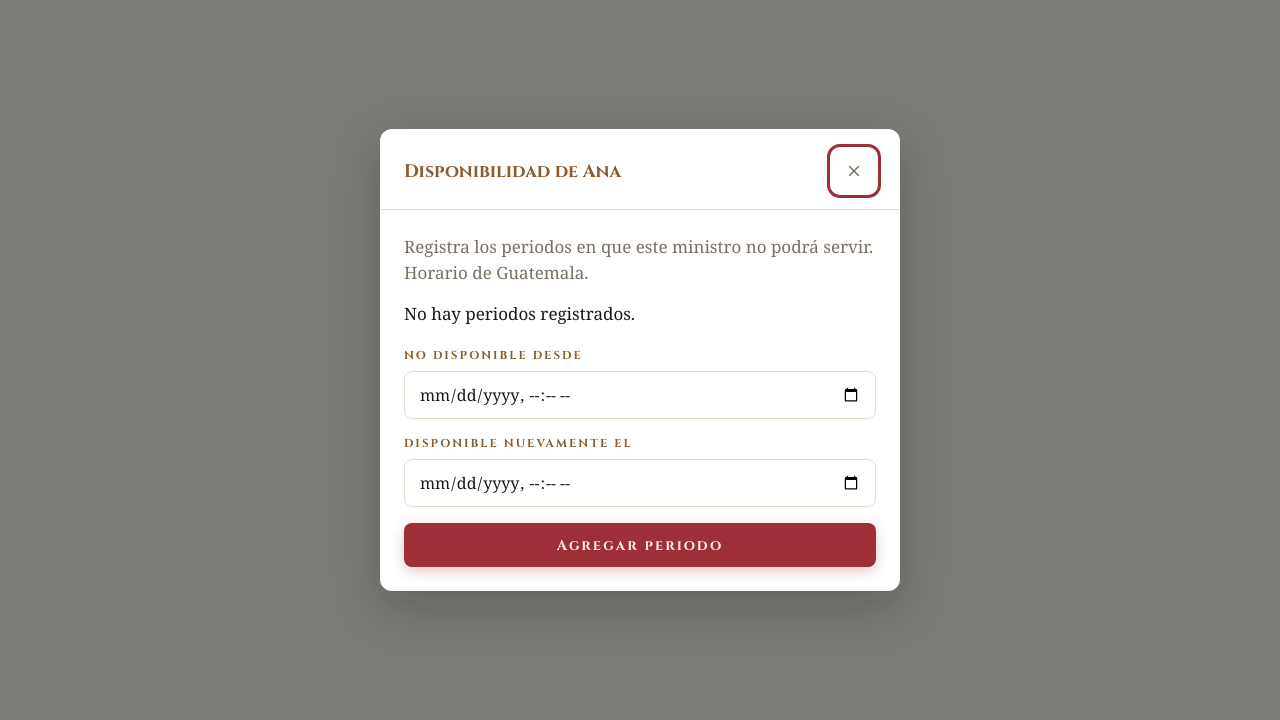
registra y retira rangos sin cambiar la disponibilidad general
Check: the text "No hay periodos registrados." is shown, box top-left (404, 302), bottom-right (635, 325)
In the field labelled "No disponible desde": (640, 395) top-left (404, 371), bottom-right (876, 419), type "2026-12-10T10:00"
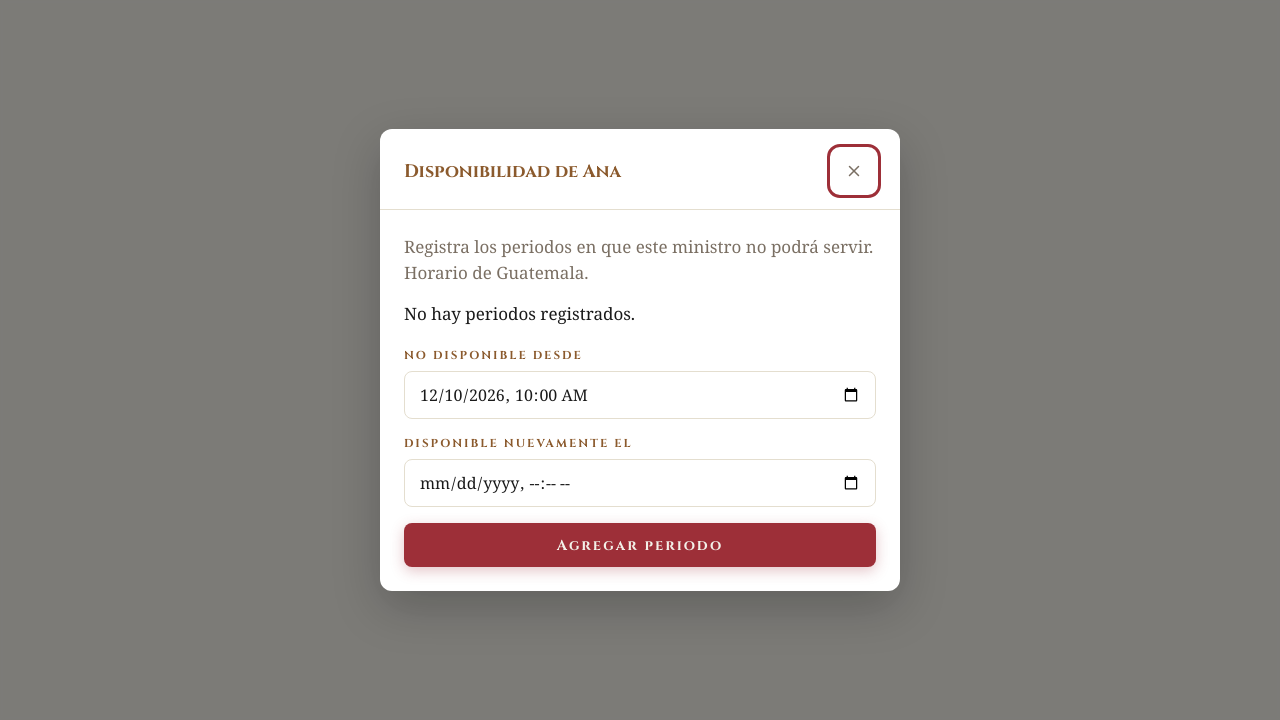
In the field labelled "Disponible nuevamente el": (640, 483) top-left (404, 459), bottom-right (876, 507), type "2026-12-15T18:00"
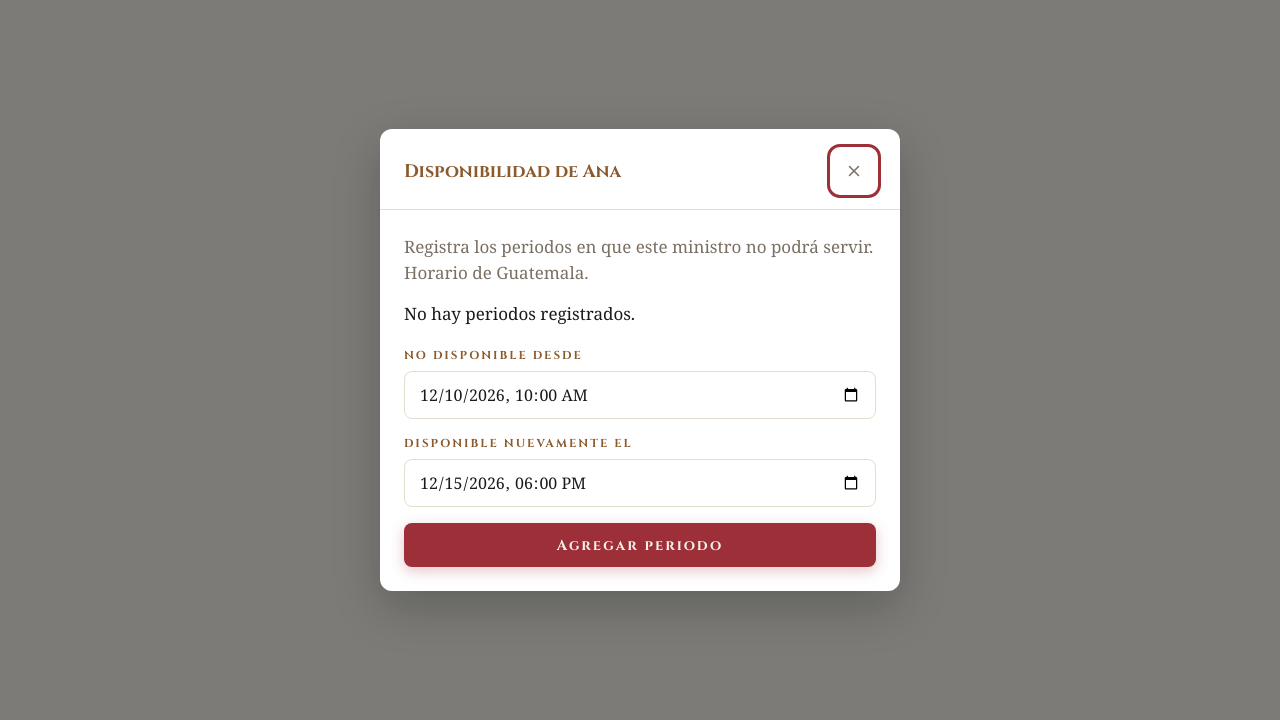
Click the button "Agregar periodo": (640, 545) top-left (404, 523), bottom-right (876, 567)
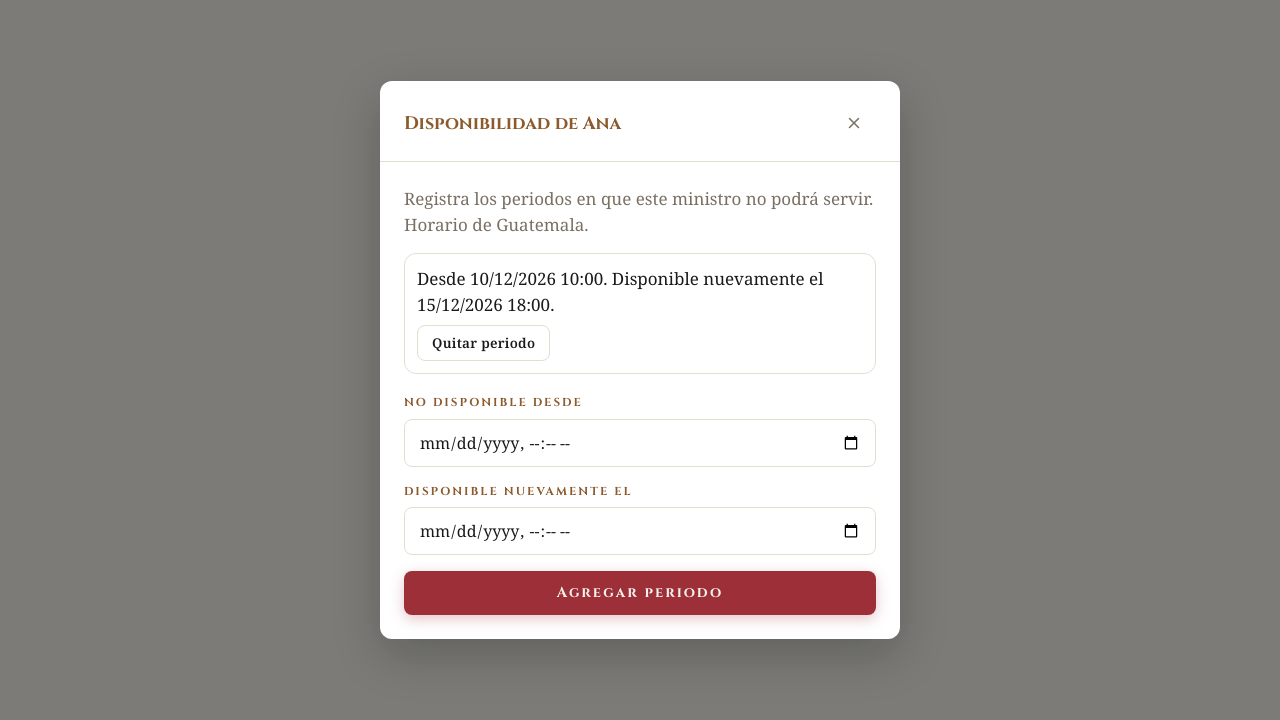
Check: the field labelled "No disponible desde" is empty, box top-left (404, 418), bottom-right (876, 466)
Click the button with aria-label "Quitar periodo del": (484, 343) top-left (417, 325), bottom-right (550, 361)
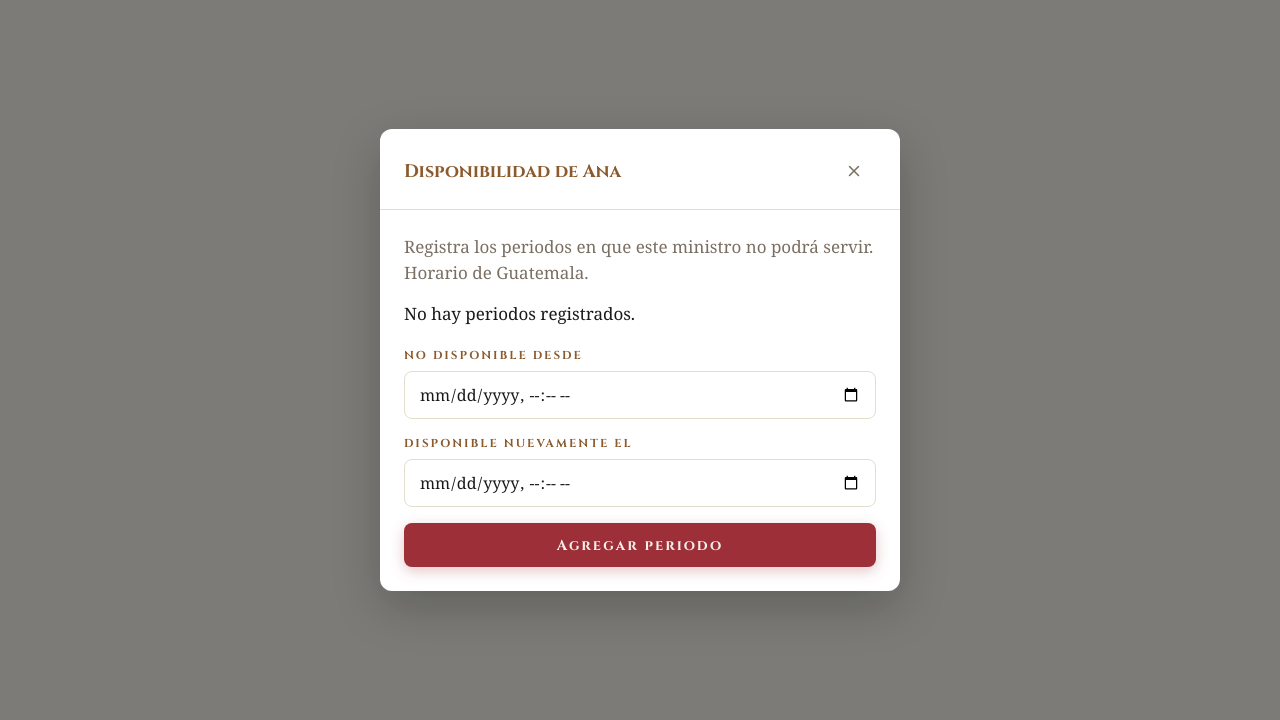
Check: the text "No hay periodos registrados." is shown, box top-left (404, 302), bottom-right (635, 325)
